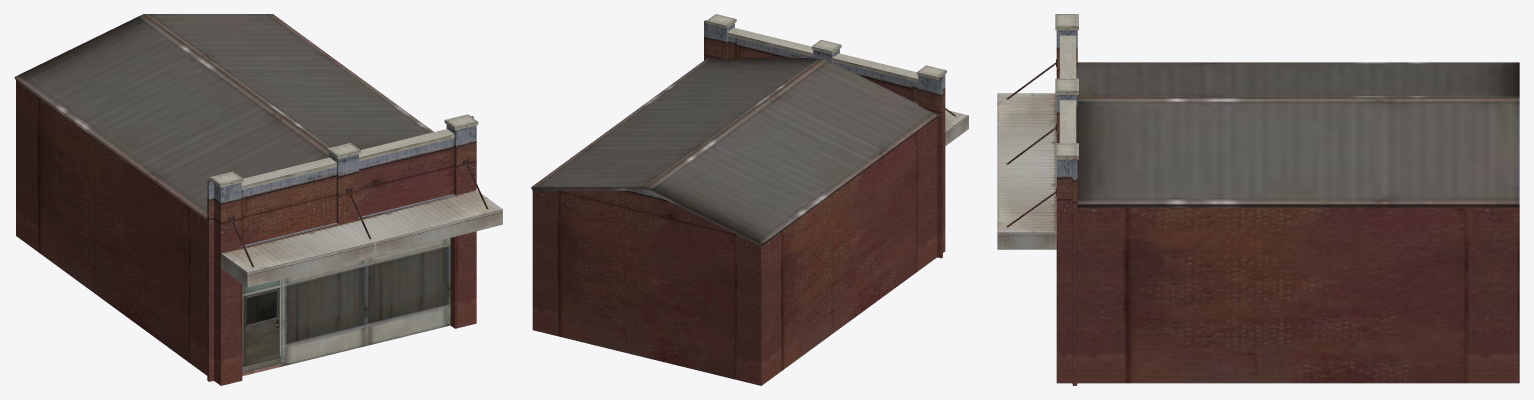
The model's file is rural-store-1.lod0.glb.
3 views of the same model, side by side, from view 1: azimuth 30°, elevation 25°; view 2: azimuth 150°, elevation 25°; view 3: azimuth 270°, elevation 25° (orthographic). The views are drawn at different scales.
Parts seen in each view (by area): view 1: Rural_StoreSmall_1_Rural_Brownstone_Facade_Flr_6_0, Rural_StoreSmall_1_Rural_Facade_FLR_2_0; view 2: Rural_StoreSmall_1_Rural_Brownstone_Facade_Flr_6_0, Rural_StoreSmall_1_Rural_Facade_FLR_2_0; view 3: Rural_StoreSmall_1_Rural_Brownstone_Facade_Flr_6_0, Rural_StoreSmall_1_Rural_Facade_FLR_2_0.
Part boxes in pixels (bbox=[...]): Rural_StoreSmall_1_Rural_Brownstone_Facade_Flr_6_0: bbox=[14, 14, 476, 385]; Rural_StoreSmall_1_Rural_Facade_FLR_2_0: bbox=[210, 114, 502, 376]; Rural_StoreSmall_1_Rural_Brownstone_Facade_Flr_6_0: bbox=[531, 20, 945, 385]; Rural_StoreSmall_1_Rural_Facade_FLR_2_0: bbox=[706, 14, 968, 145]; Rural_StoreSmall_1_Rural_Brownstone_Facade_Flr_6_0: bbox=[1056, 30, 1519, 385]; Rural_StoreSmall_1_Rural_Facade_FLR_2_0: bbox=[997, 14, 1078, 249].
Bounding box in the file's own units: 8.32 × 6.06 × 12.59.
2 materials, 2 textured.
